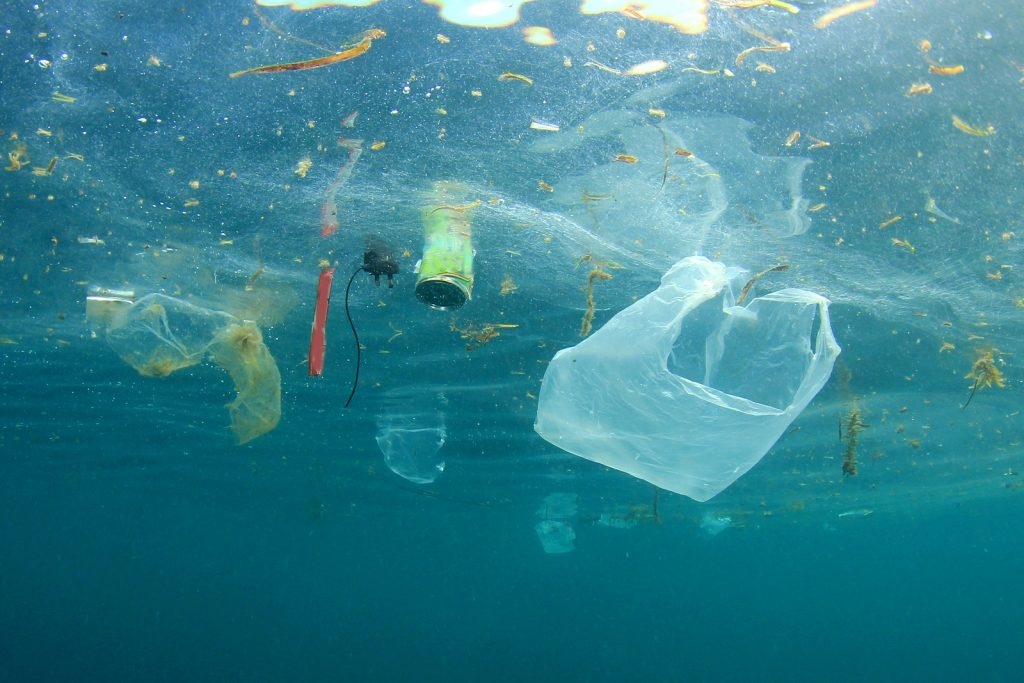litter: (520, 266, 848, 529), (63, 284, 297, 448), (326, 251, 416, 416), (362, 420, 481, 507), (412, 210, 483, 311), (294, 250, 345, 383)
